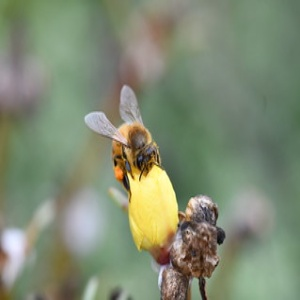bee: (88, 87, 162, 185)
